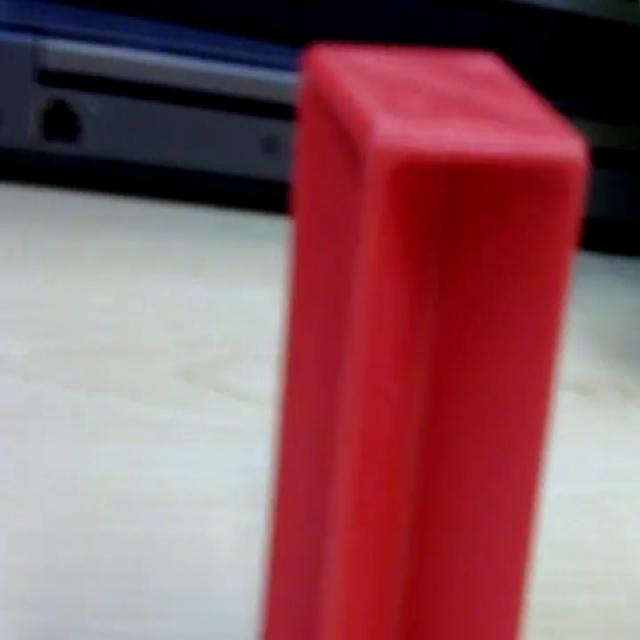red_block: (259, 40, 592, 636)
